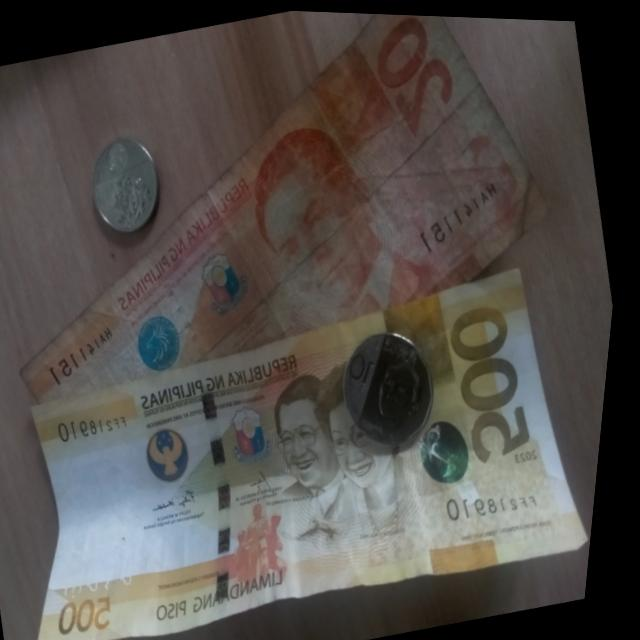10_New_Front: (346, 331, 438, 439)
